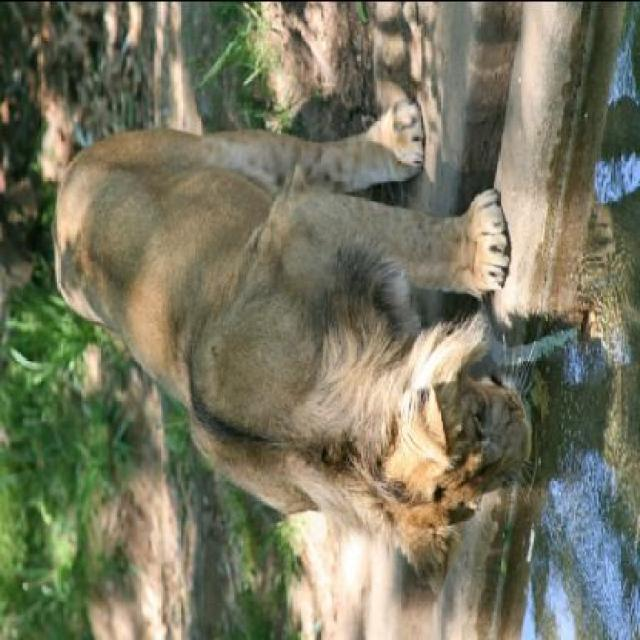Lion: (38, 52, 584, 586)
